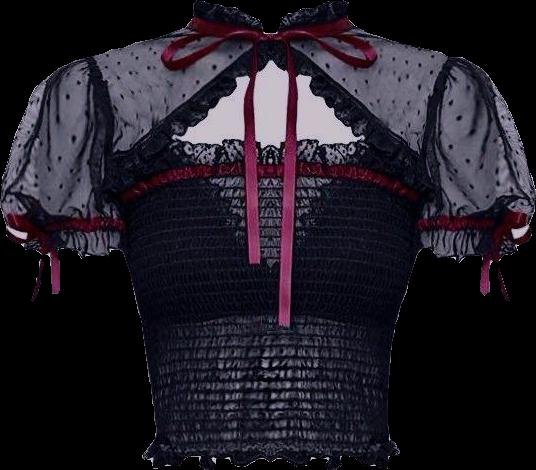Bodice: (84, 0, 458, 469)
Neckline: (109, 33, 432, 189), (193, 0, 348, 36), (145, 137, 381, 156)
Sleeve: (0, 59, 121, 258), (420, 58, 534, 262)
Sleeveline: (82, 59, 117, 215), (426, 60, 459, 209)
Waistline: (139, 448, 403, 469)
